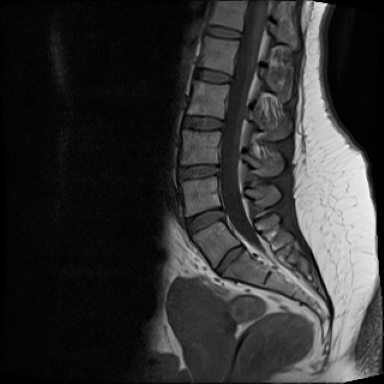Normal IVD: (175, 156, 225, 187), (211, 241, 251, 279), (172, 109, 231, 134), (190, 64, 239, 88), (200, 20, 247, 43)
Spondylolisthesis: (178, 200, 234, 248)
